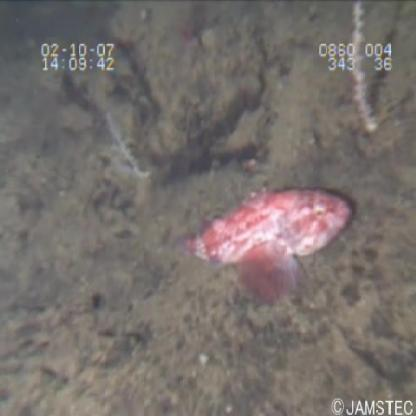Bio: (171, 180, 356, 300)
